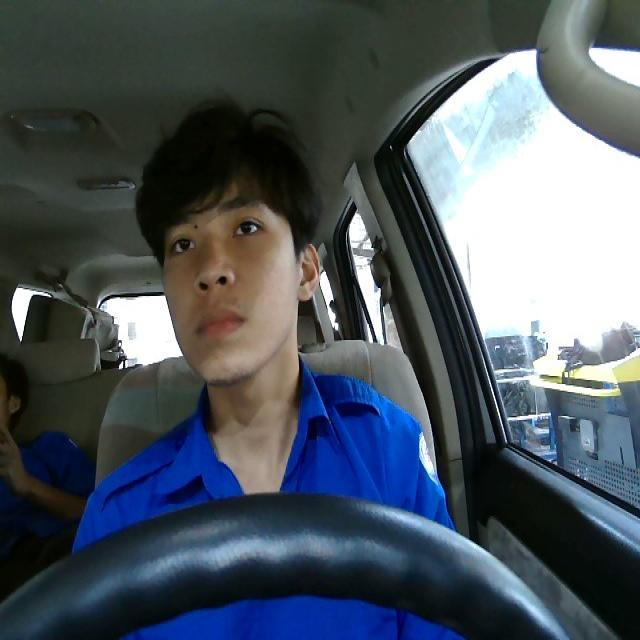seeing_left: (160, 172, 320, 384)
